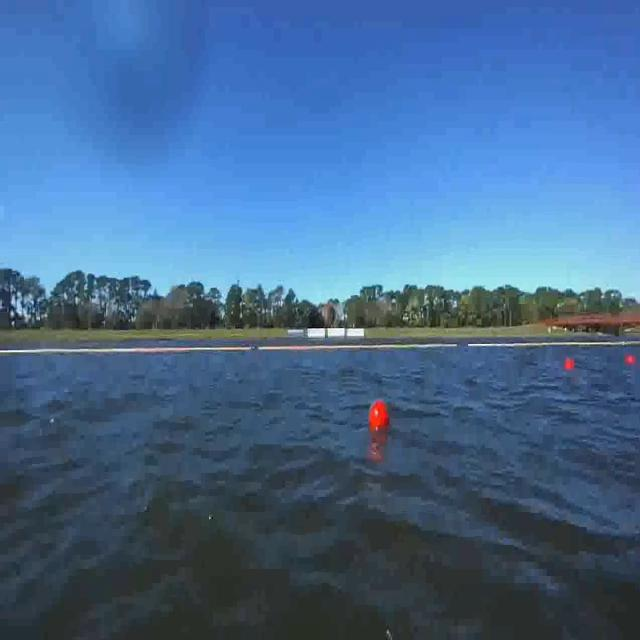red-buoy: (370, 400, 390, 436), (564, 358, 575, 370), (626, 355, 636, 365)
